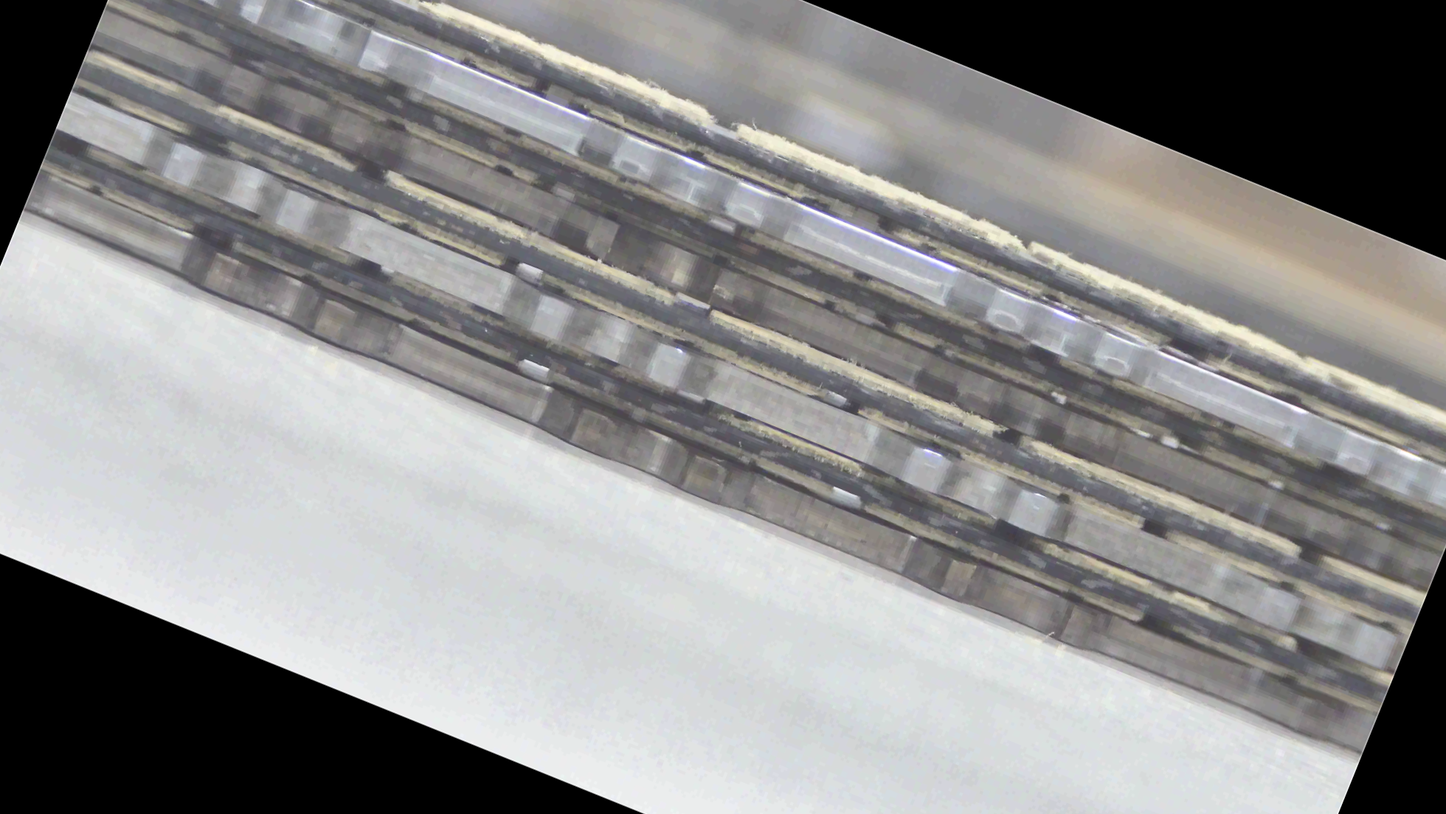Black metal plate: (0, 260, 1445, 319), (0, 442, 1445, 498)
shiney metal plate: (0, 358, 1445, 411), (0, 185, 1445, 236)
spacer: (44, 146, 1388, 703), (73, 75, 1425, 606), (0, 0, 1333, 420), (3, 226, 1445, 272)
